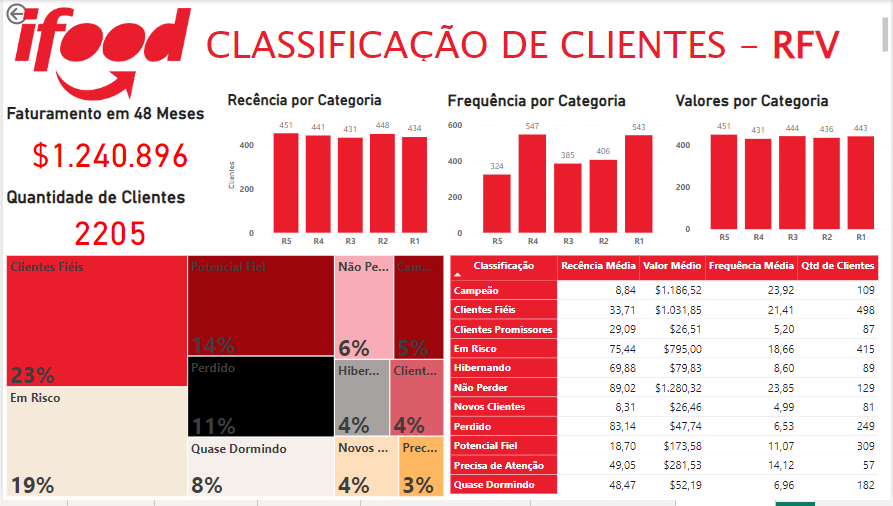

What the dashboard file says about the page in this screenshot:
{"tool":"powerbi","page":{"name":"DashBoard","canvas":[1280,720],"ordinal":7},"visuals":[{"type":"card","title":"Faturamento em 48 Meses","fields":{"Values":["Sum(ifood_df.MntTotal)"]},"box":[0,150,308.6,108.6],"z":0},{"type":"actionButton","box":[0,0,100,40],"z":1000},{"type":"card","title":"Quantidade de Clientes","fields":{"Values":["CountNonNull(ifood_df.Índice.1)"]},"box":[0,267.1,308.6,95.7],"z":2000},{"type":"treemap","title":"Matrix RFV","fields":{"Group":["Classificação RFV.Classificação"],"Values":["CountNonNull(ifood_df.RFV)"]},"box":[0,362.9,640,357.1],"z":3000},{"type":"clusteredColumnChart","title":"Valores por Categoria","fields":{"Category":["ifood_df.Mnt_group"],"Y":["CountNonNull(ifood_df.MntTotal)"]},"box":[962.9,131.4,317.1,228.6],"z":4000},{"type":"clusteredColumnChart","title":"Frequência por Categoria","fields":{"Category":["ifood_df.Freq_group"],"Y":["CountNonNull(ifood_df.Frequency)"]},"box":[635.7,131.4,327.1,234.3],"z":5000},{"type":"clusteredColumnChart","title":"Recência por Categoria","fields":{"Category":["ifood_df.Recency_group"],"Y":["CountNonNull(ifood_df.Recency)"]},"box":[318.6,131.4,317.1,234.3],"z":6000},{"type":"image","box":[0,5.7,287.1,144.3],"z":7000},{"type":"textbox","box":[287.1,20,992.9,72.9],"z":8000},{"type":"pivotTable","fields":{"Rows":["Classificação RFV.Classificação"],"Values":["Avg(ifood_df.Recency)","Avg(ifood_df.MntTotal)","Avg(ifood_df.Frequency)","CountNonNull(ifood_df.Índice.1)"]},"box":[640,362.9,640,357.1],"z":9000}]}

Visuals, with their boxes in screenshot pixels (x1, y1, x2, y2), scaled from the page's 1280x720 canvas onto the 893x506 screenshot:
"Faturamento em 48 Meses" card: left=0, top=105, right=215, bottom=182
actionButton: left=0, top=0, right=70, bottom=28
"Quantidade de Clientes" card: left=0, top=188, right=215, bottom=255
"Matrix RFV" treemap: left=0, top=255, right=446, bottom=505
"Valores por Categoria" clusteredColumnChart: left=672, top=92, right=892, bottom=253
"Frequência por Categoria" clusteredColumnChart: left=444, top=92, right=672, bottom=257
"Recência por Categoria" clusteredColumnChart: left=222, top=92, right=444, bottom=257
image: left=0, top=4, right=200, bottom=105
textbox: left=200, top=14, right=892, bottom=65
pivotTable - Classificação RFV.Classificação x Avg(ifood_df.Recency): left=446, top=255, right=892, bottom=505
